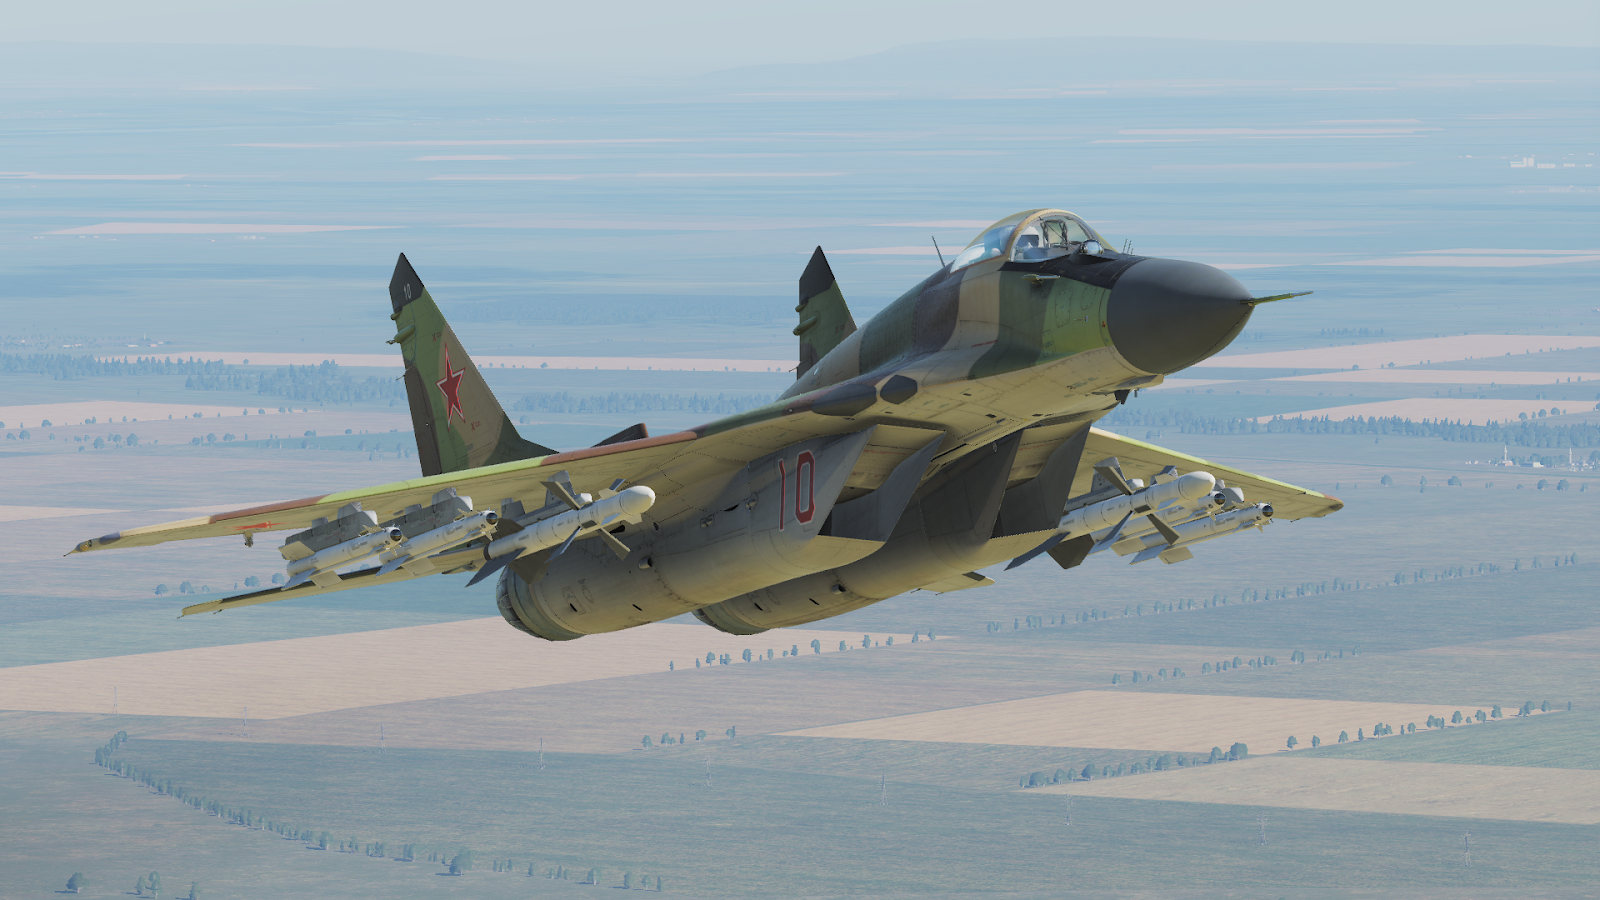Mig-29: (179, 145, 1444, 738)
